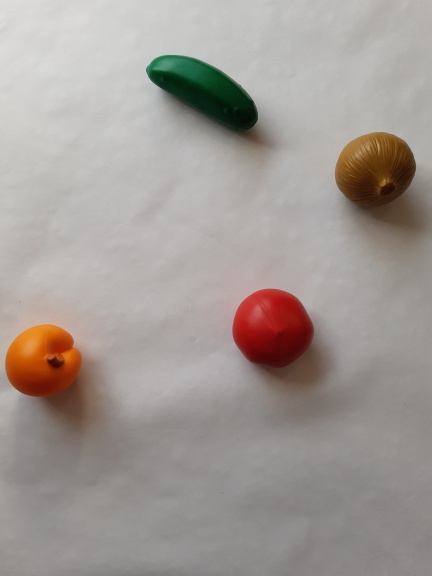apricot: (1, 319, 88, 401)
cucumber: (134, 42, 265, 138)
onion: (322, 122, 422, 217)
tomato: (224, 283, 322, 376)
